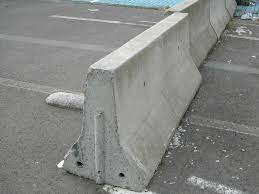obstacle: (81, 12, 201, 185)
